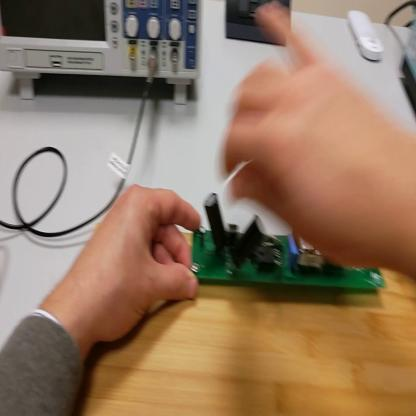hand: (221, 5, 403, 267), (77, 184, 202, 343)
high voltage board: (190, 188, 392, 292)
oscilloscope: (2, 3, 205, 110)
welder station: (399, 16, 416, 118)
working area: (66, 222, 416, 416)
